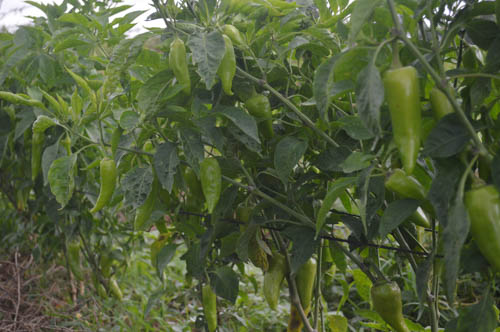ChiliPepper: (385, 68, 420, 170), (468, 187, 498, 262), (286, 258, 319, 322), (89, 159, 117, 216), (390, 171, 428, 207), (374, 285, 404, 328), (260, 254, 283, 310), (249, 95, 276, 139), (198, 159, 220, 208), (172, 41, 192, 92), (218, 37, 236, 93), (204, 286, 220, 327)
